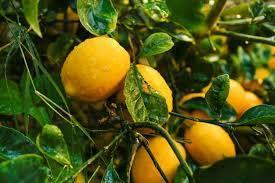lemon: (60, 36, 130, 104), (115, 64, 172, 134), (132, 136, 186, 183), (184, 121, 236, 166), (202, 79, 244, 108), (180, 92, 208, 118), (236, 92, 262, 118)
